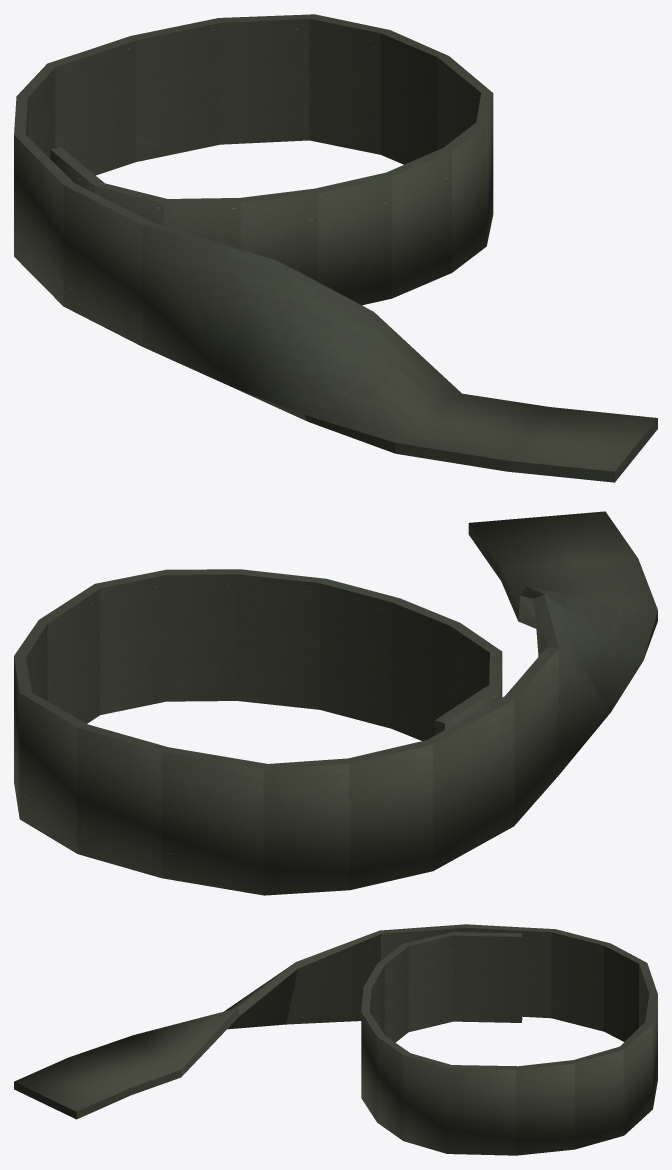
File: Belt_01.fbx
The picture shows the model from 3 angles, top to bottom: view 1: azimuth 30°, elevation 25°; view 2: azimuth 150°, elevation 25°; view 3: azimuth 270°, elevation 25°; orthographic projection. The views are drawn at different scales.
Parts seen in each view (by area): view 1: Belt_01; view 2: Belt_01; view 3: Belt_01.
Boxes of the visible parts, bbox=[...] form: Belt_01: bbox=[14, 14, 657, 482]; Belt_01: bbox=[14, 511, 657, 895]; Belt_01: bbox=[14, 924, 657, 1155].
Bounding box in the file's own units: 20.53 × 5.67 × 38.44.
